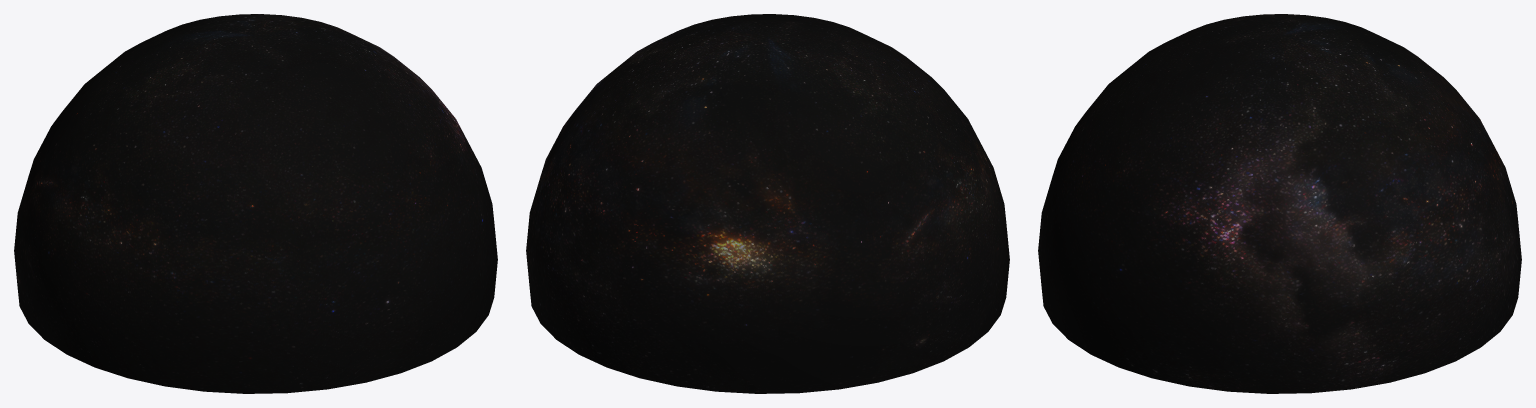
The model's file is SpaceSky.FBX.
3 views of the same model, side by side, from view 1: azimuth 30°, elevation 25°; view 2: azimuth 150°, elevation 25°; view 3: azimuth 270°, elevation 25° (orthographic).
Visible parts, largest first — view 1: SpaceSky; view 2: SpaceSky; view 3: SpaceSky.
Part boxes in pixels (x1,y1,x2,y2): SpaceSky: (14, 14, 497, 393); SpaceSky: (526, 14, 1009, 393); SpaceSky: (1038, 14, 1521, 393).
Size of the model in its own units: 21568 by 21568 by 12669.
